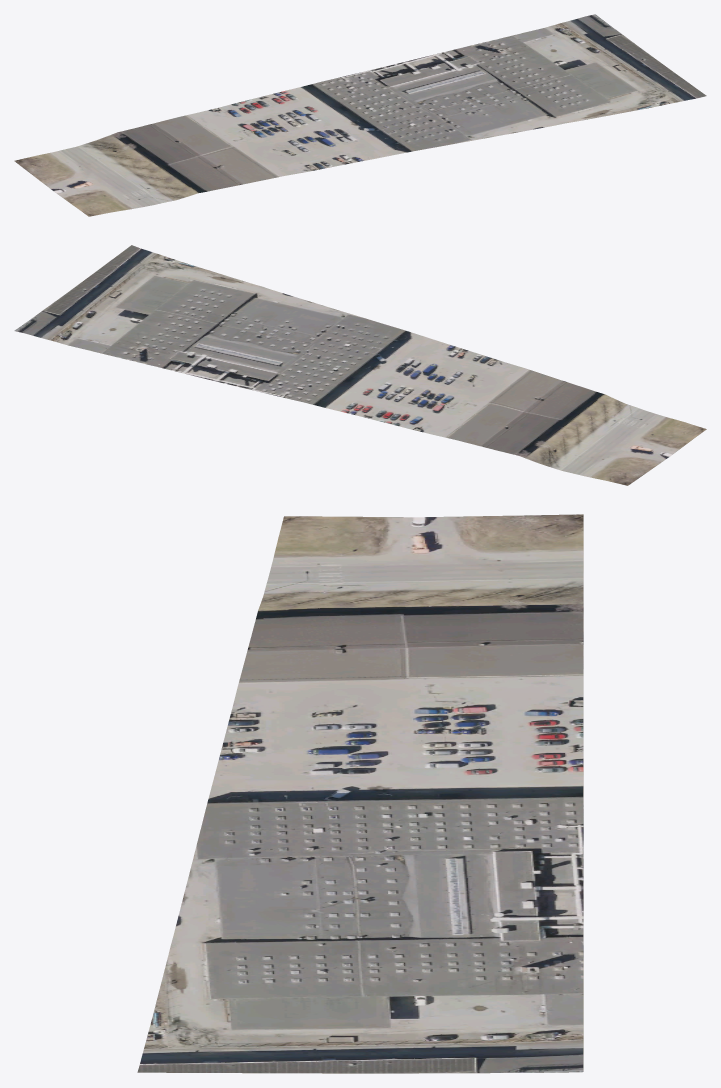
File: CM_Terrain_24488410_6818565.fbx
3 renders of one model, top to bottom at view 1: azimuth 30°, elevation 25°; view 2: azimuth 150°, elevation 25°; view 3: azimuth 270°, elevation 25°, orthographic. The views are drawn at different scales.
Parts seen in each view (by area): view 1: CM_Terrain_24488410_6818565_LOD0; view 2: CM_Terrain_24488410_6818565_LOD0; view 3: CM_Terrain_24488410_6818565_LOD0.
Boxes of the visible parts, x1=… form: CM_Terrain_24488410_6818565_LOD0: x1=14, y1=14, x2=706, y2=216; CM_Terrain_24488410_6818565_LOD0: x1=14, y1=245, x2=706, y2=485; CM_Terrain_24488410_6818565_LOD0: x1=137, y1=514, x2=583, y2=1073.
Size of what is drawn, in the model's own units: 205 by 2.26 by 68.04.
